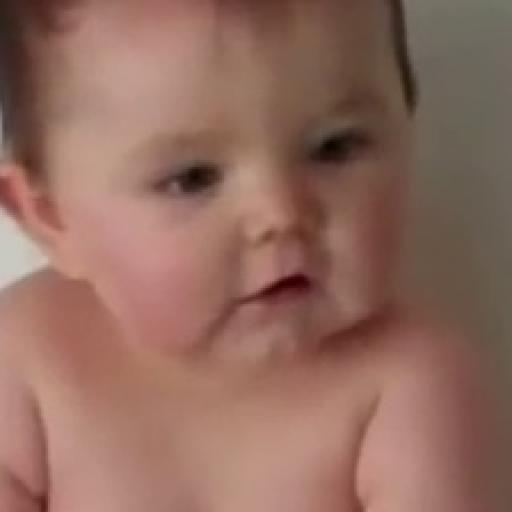Autism: (11, 11, 512, 492)
